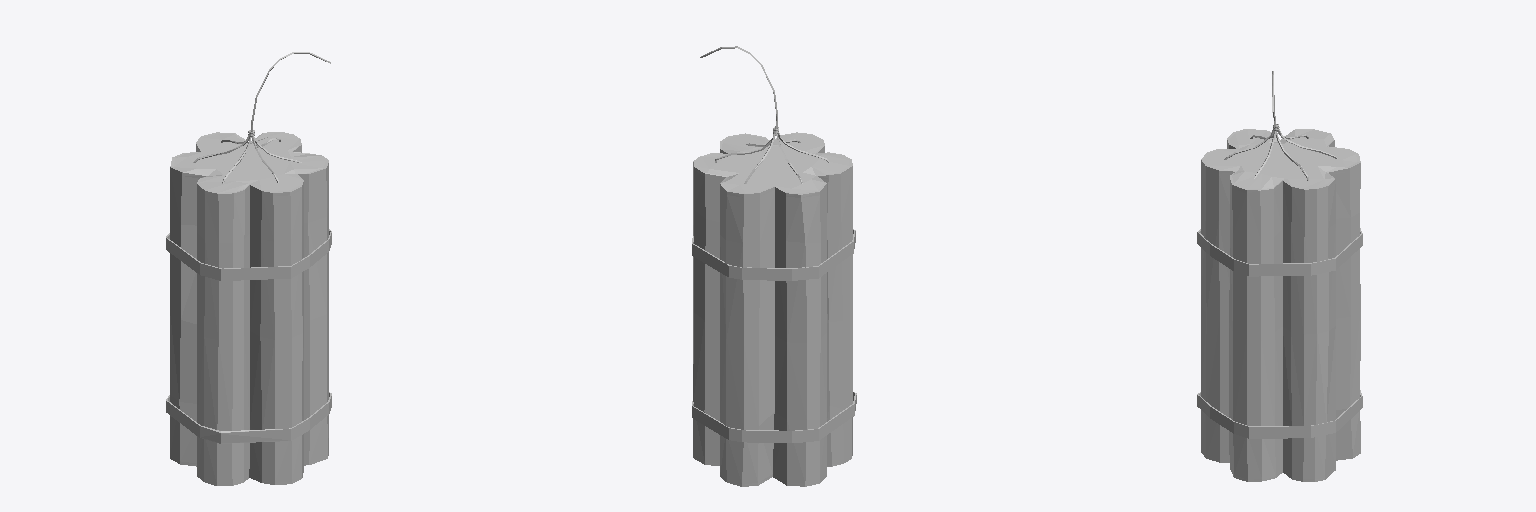
Rendered from dynamite.obj.
3 renders of one model, left to right at view 1: azimuth 30°, elevation 25°; view 2: azimuth 150°, elevation 25°; view 3: azimuth 270°, elevation 25°, orthographic.
Size of the model in its own units: 1.02 by 2.71 by 1.02.